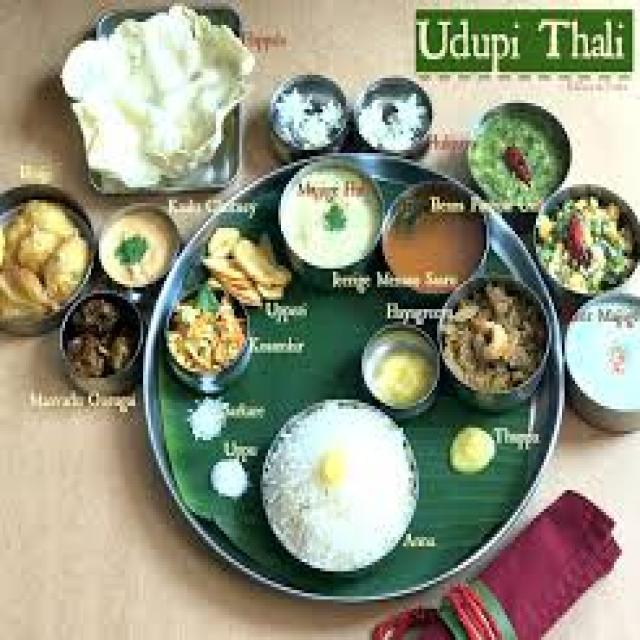curd: (269, 151, 390, 280)
papad: (67, 9, 250, 196), (253, 379, 424, 575)
pickle: (61, 290, 146, 378)
raita: (560, 294, 640, 423), (352, 81, 435, 157)
rice: (254, 390, 425, 569)
sambar-rasam: (381, 177, 495, 305)
